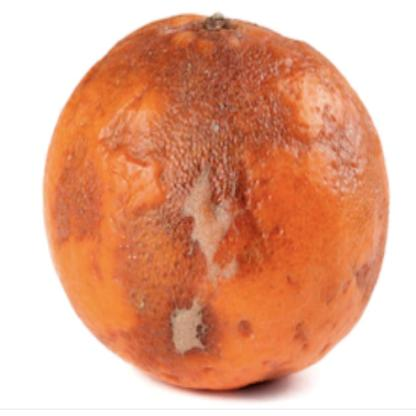rotten: (41, 10, 391, 397)
